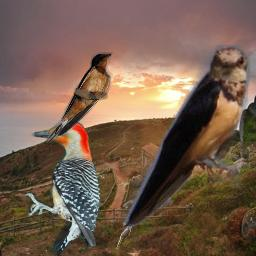Cuckoo: (115, 224, 134, 251)
Swallow: (123, 45, 250, 233), (43, 51, 114, 143)
Woodpecker: (25, 121, 104, 255)
